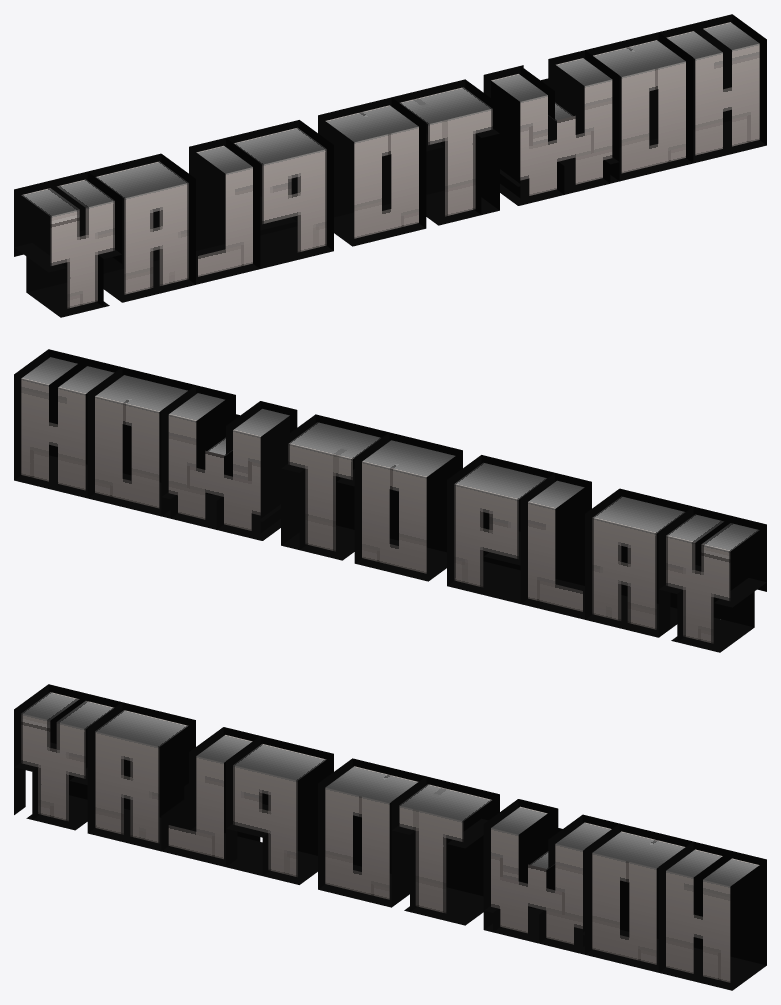
File: HowToPlay.gltf
3 renders of one model, top to bottom at view 1: azimuth 30°, elevation 25°; view 2: azimuth 150°, elevation 25°; view 3: azimuth 330°, elevation 25°, orthographic.
Parts seen in each view (by area): view 1: cube (×20); view 2: cube (×20); view 3: cube (×21).
Boxes of the visible parts, bbox=[...] form: cube (×20): bbox=[14, 14, 766, 317]; cube (×20): bbox=[14, 349, 766, 652]; cube (×21): bbox=[14, 684, 766, 990].
Bounding box in the file's own units: 19.5 × 2.75 × 1.62.
Materials: 1 (1 with a texture image).
